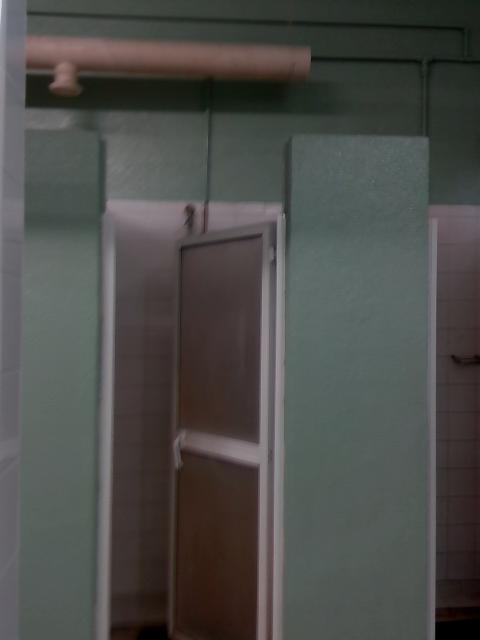semi_door: (99, 196, 289, 639)
